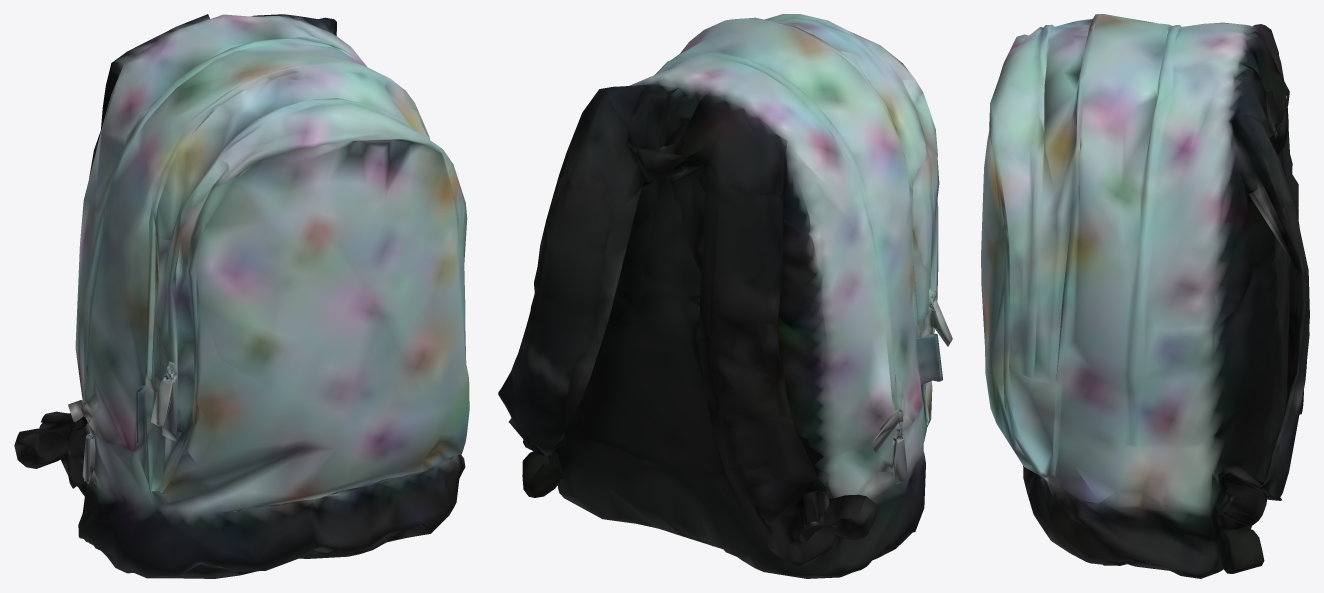
Rendered from Olive_Kids_Birdie_Sidekick_Backpack-medium.glb.
The picture shows the model from 3 angles, left to right: view 1: azimuth 30°, elevation 25°; view 2: azimuth 150°, elevation 25°; view 3: azimuth 270°, elevation 25°; orthographic projection. The views are drawn at different scales.
Parts seen in each view (by area): view 1: Olive_Kids_Birdie_Sidekick_Backpack; view 2: Olive_Kids_Birdie_Sidekick_Backpack; view 3: Olive_Kids_Birdie_Sidekick_Backpack.
Part boxes in pixels (box(x1,y1,x2,y2)): Olive_Kids_Birdie_Sidekick_Backpack: box(14, 14, 469, 578); Olive_Kids_Birdie_Sidekick_Backpack: box(498, 14, 952, 578); Olive_Kids_Birdie_Sidekick_Backpack: box(981, 14, 1309, 578).
Size of the model in its own units: 0.321 by 0.3854 by 0.2435.
1 material, 1 textured.
